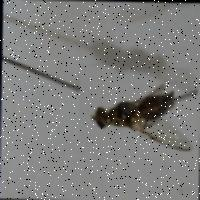Oriental-fruit-fly: (78, 64, 198, 156)
